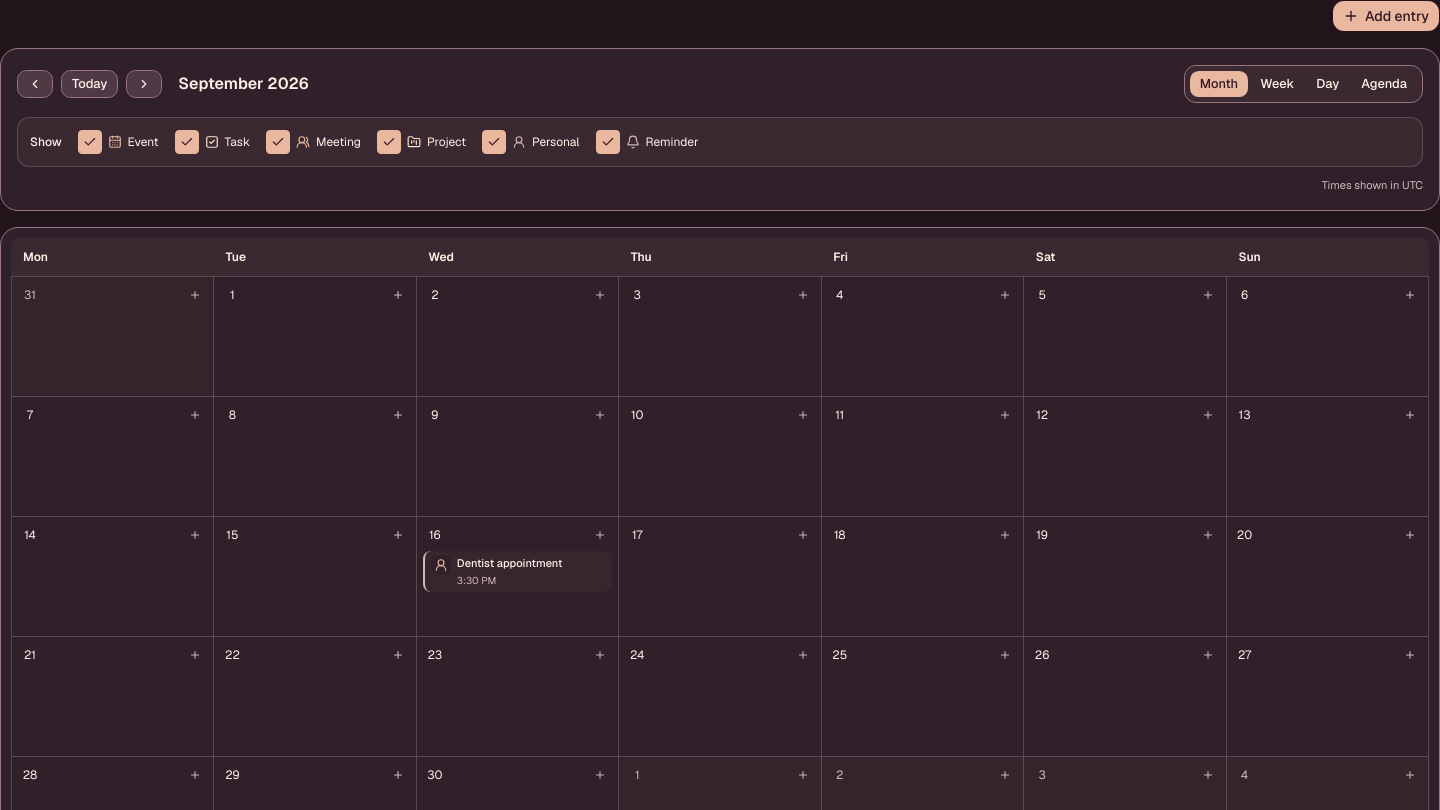
CalendarManager › edits a mutable entry through the real API without sending its type
Click the text "Dentist appointment" at (510, 562), box left=457, top=556, right=562, bottom=570
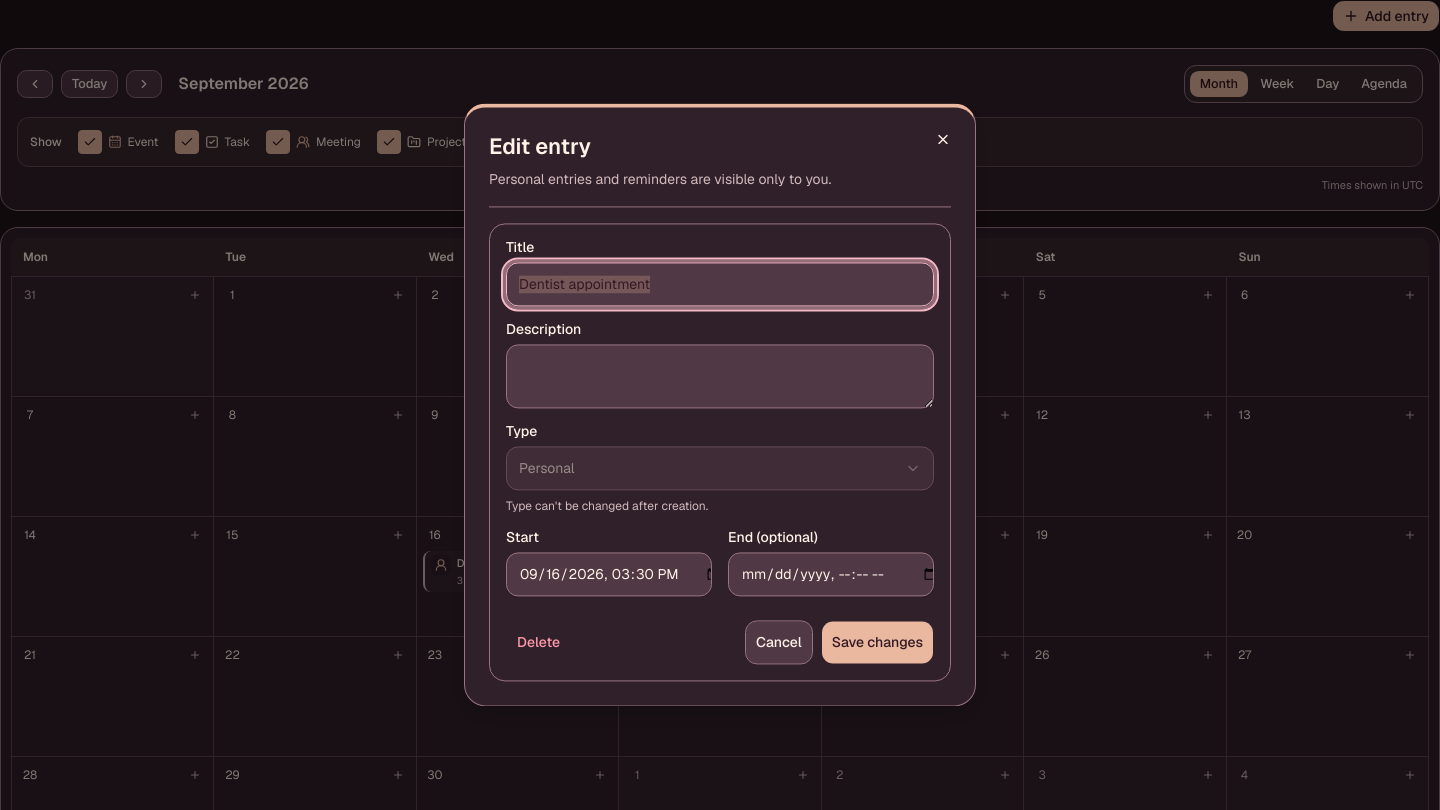
Check: the dropdown named "Type" is disabled, box left=506, top=447, right=934, bottom=491
Replace the text in the field labelled "Title" with "Dentist follow-up" at (720, 285), box left=506, top=263, right=934, bottom=307
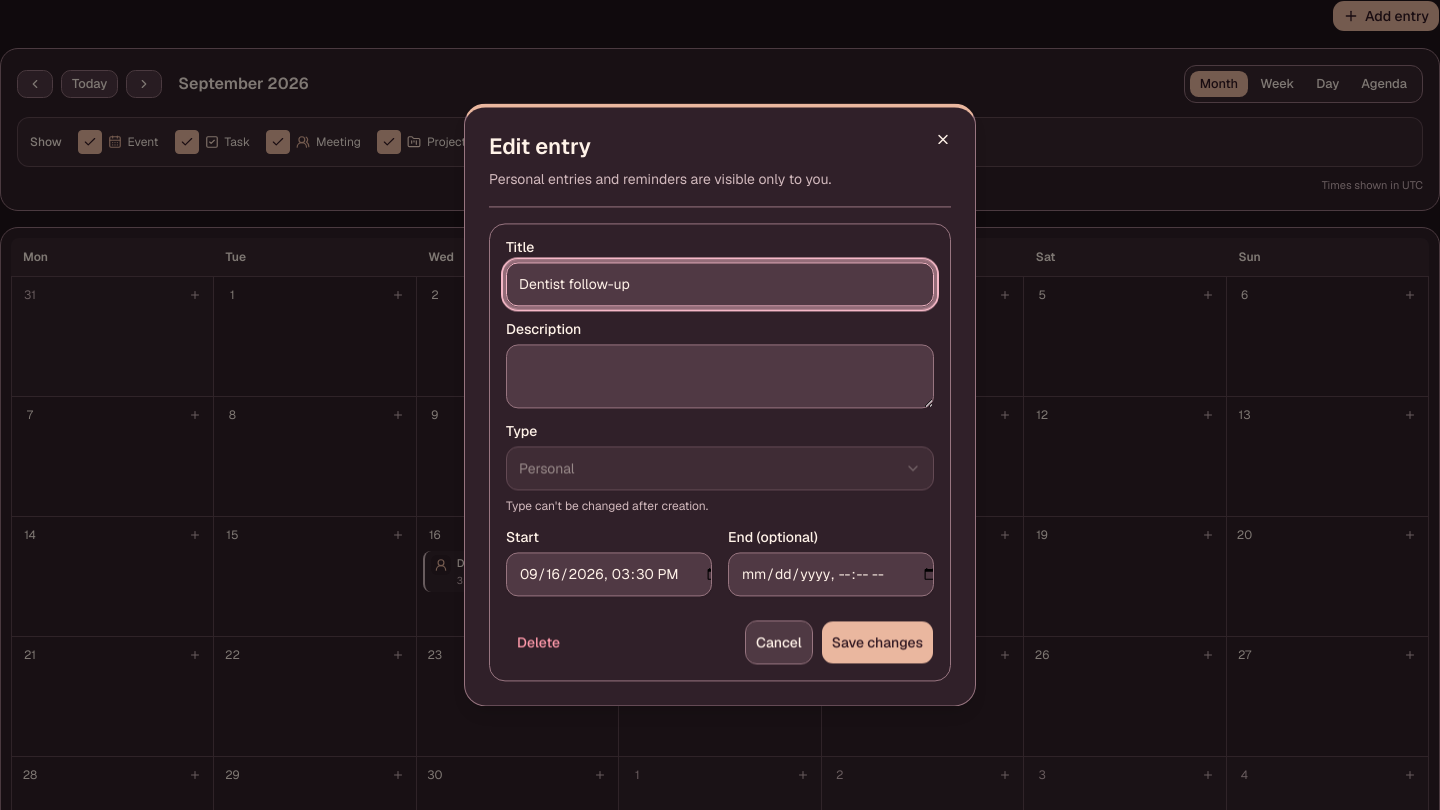
Click the button "Save changes" at (877, 643), box left=821, top=621, right=934, bottom=665
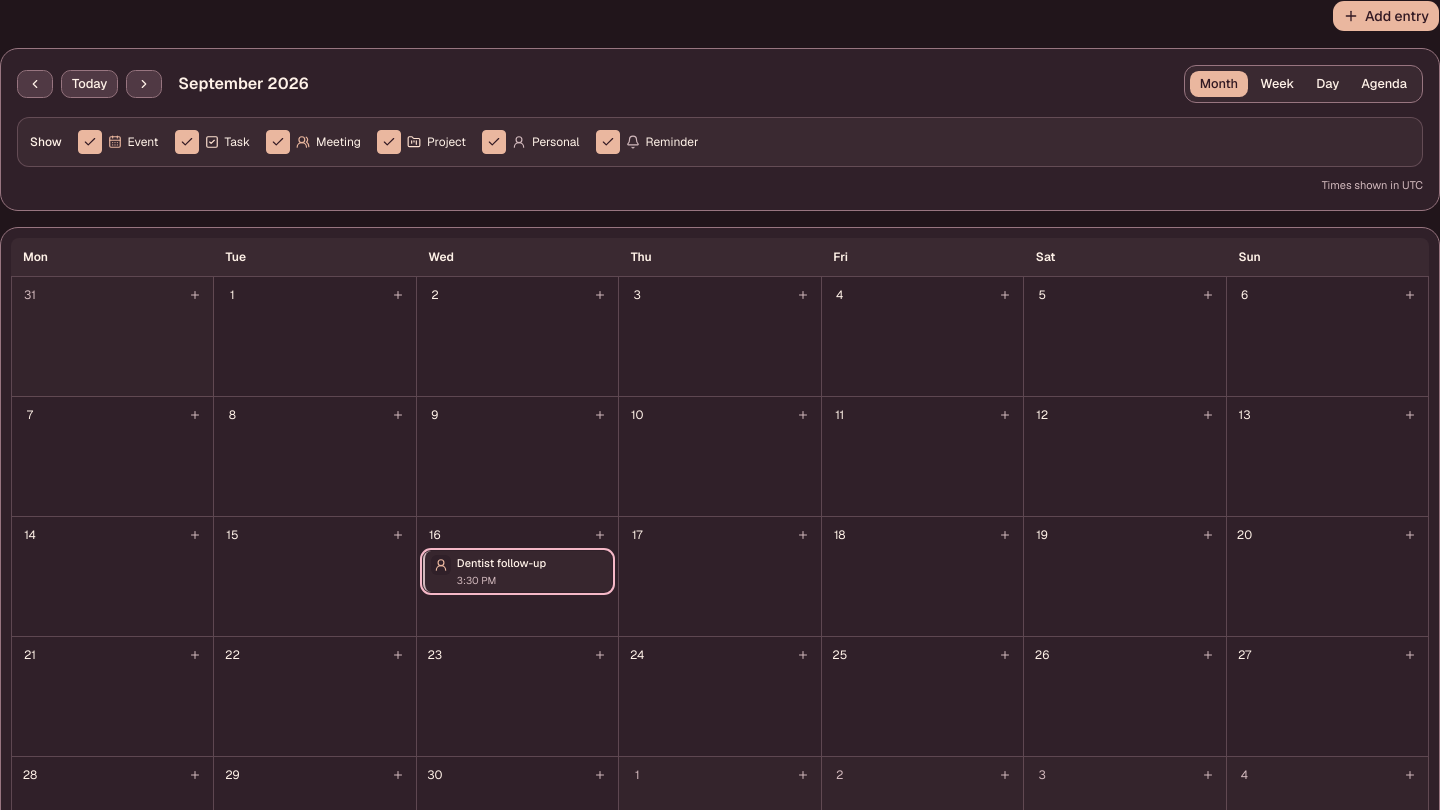
Check: the text "Dentist follow-up" is shown, box left=457, top=556, right=546, bottom=570
